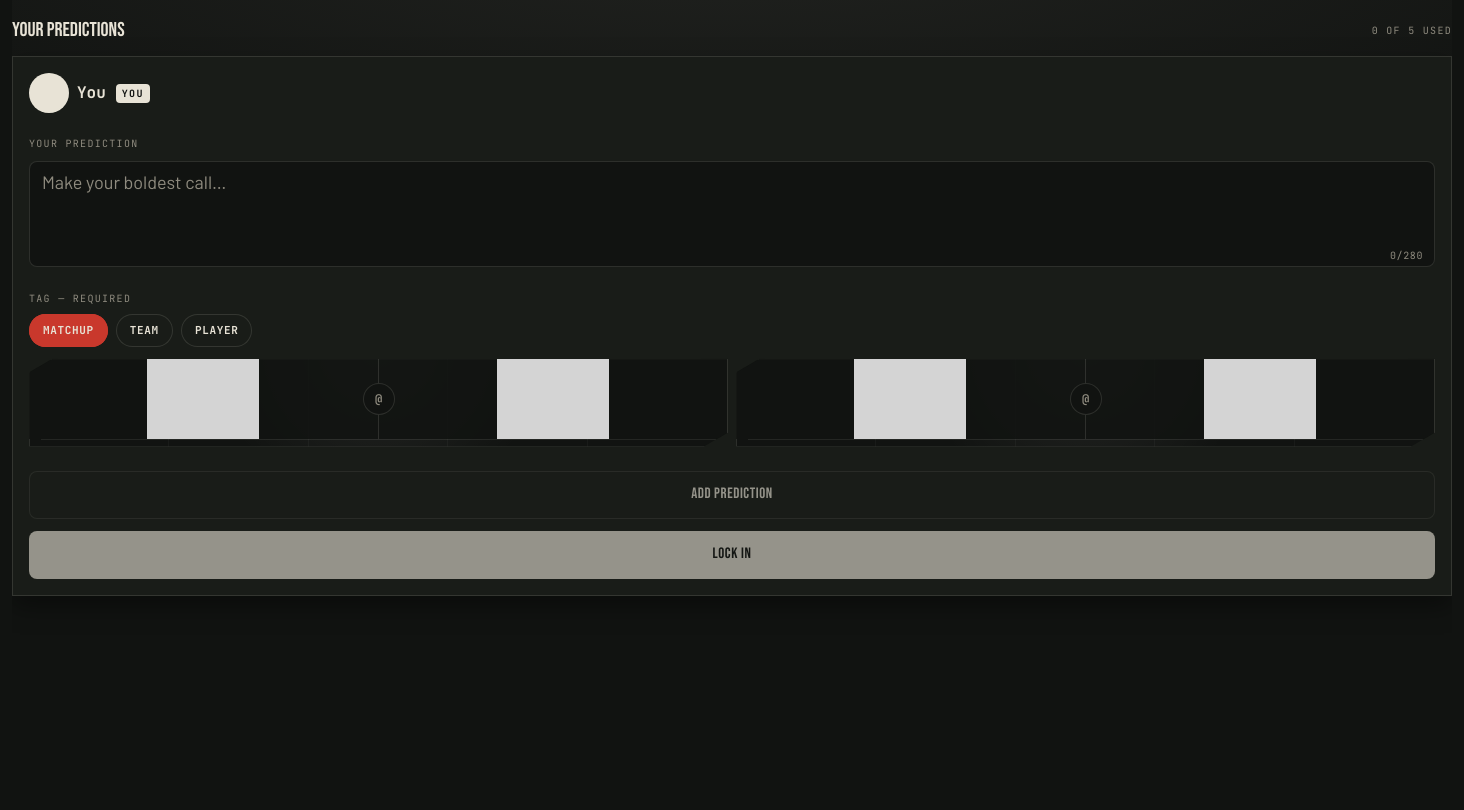
Test: cannot add a prediction without a tag
Type "Mahomes throws for 400" into the text box labelled "Your prediction".
click(732, 214); type("Mahomes throws for 400")  # box [29, 161, 1435, 267]
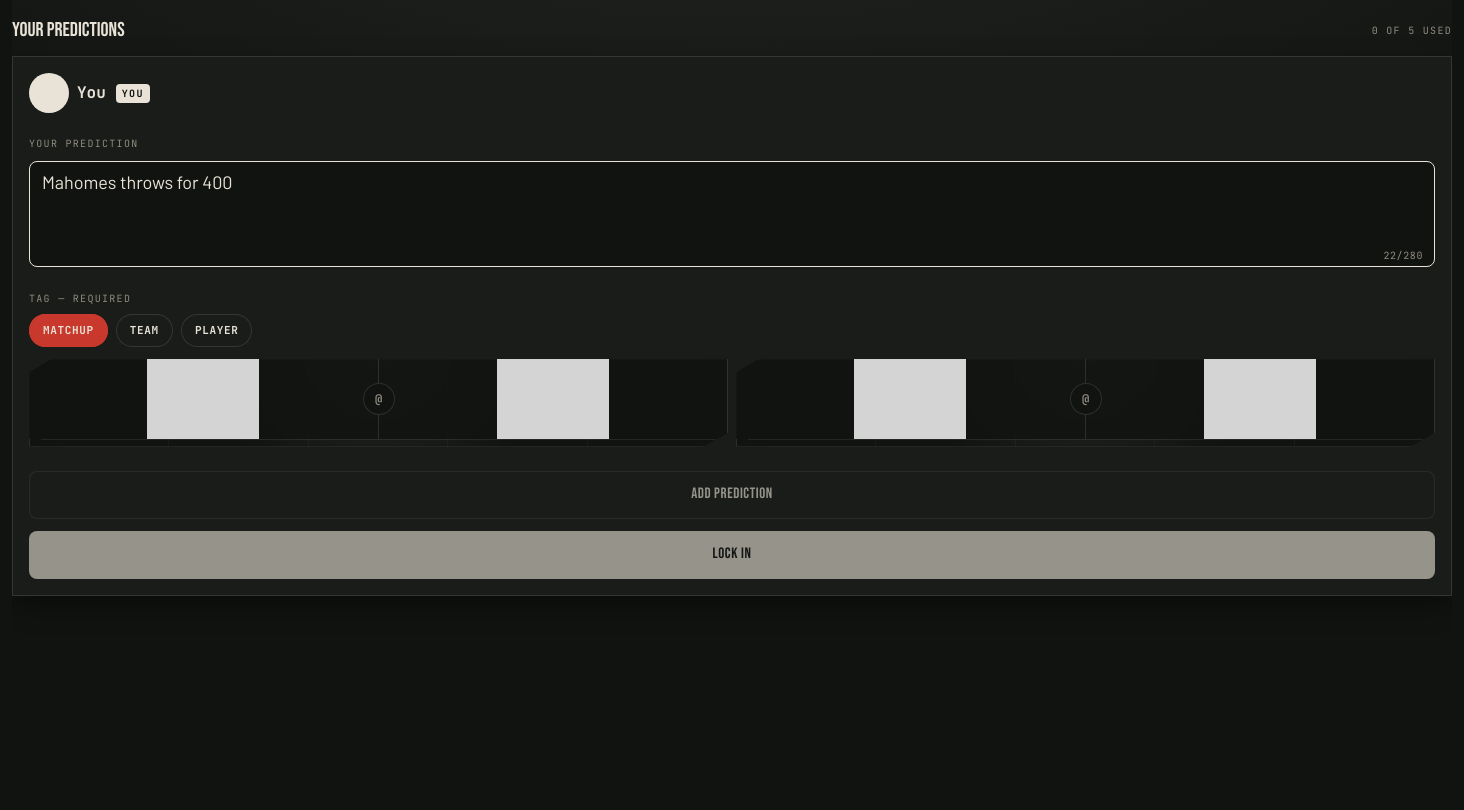
Expected: the button "Add prediction" is disabled, [29, 470, 1435, 518]
Click the button named "Bills @ Chiefs".
click(378, 402)  # box [29, 358, 728, 446]
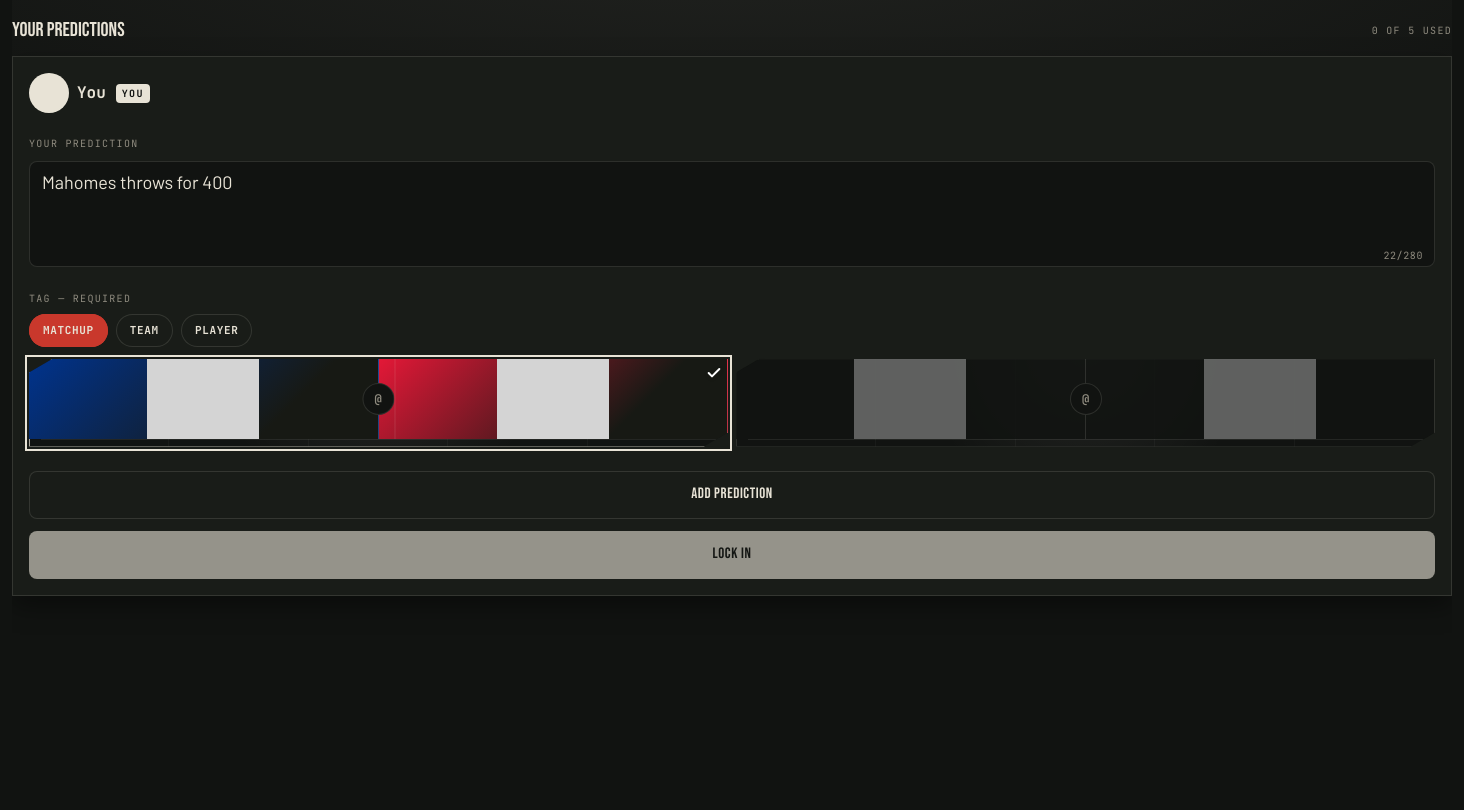
Expected: the button "Add prediction" is enabled, [29, 470, 1435, 518]
